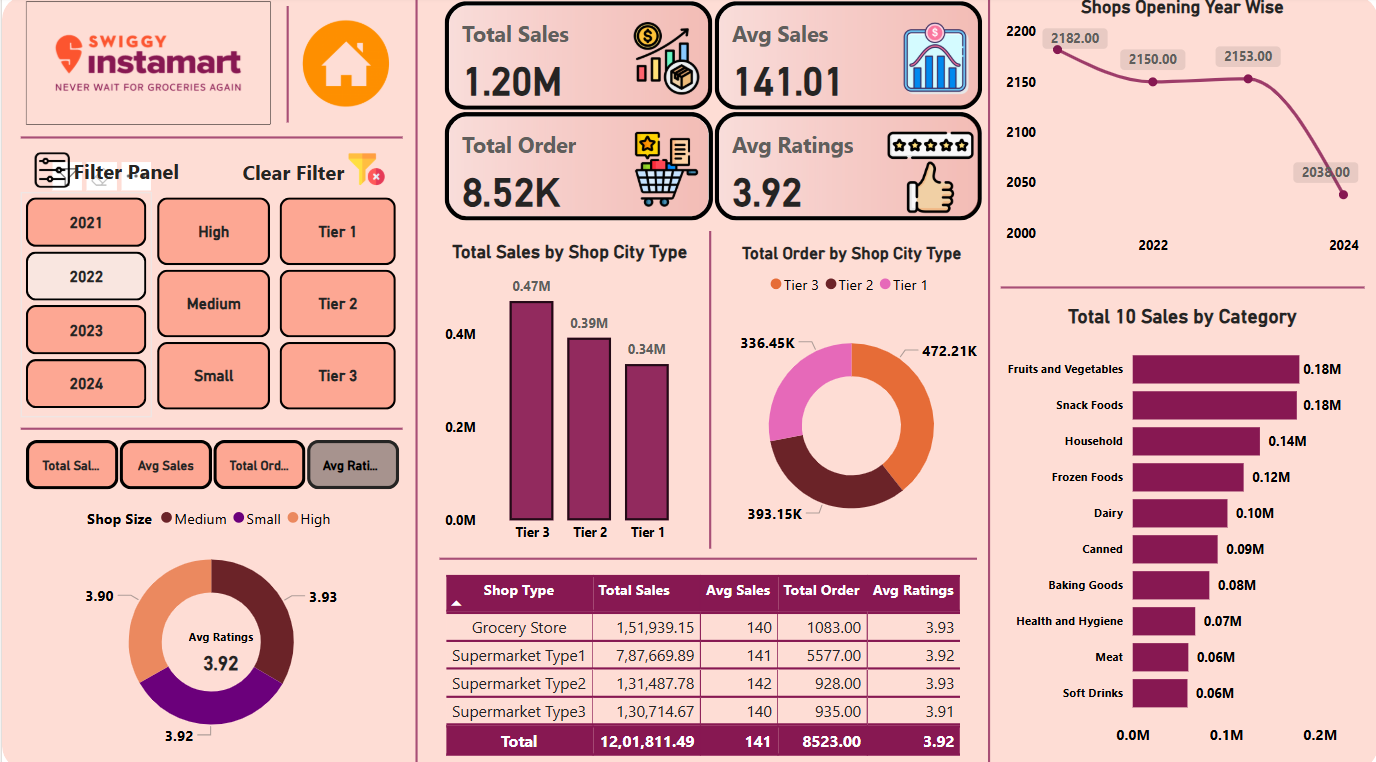

The dashboard page shown, as its layout file describes it:
{"tool":"powerbi","page":{"name":"Page 1","canvas":[1280,720],"ordinal":0},"visuals":[{"type":"shape","box":[0,0,1280.3,719.7],"z":0},{"type":"image","box":[16.9,0,238,125.4],"z":1000},{"type":"cardVisual","fields":{"Data":["Grocery Shop.Total Sales","Grocery Shop.Avg Sales","Grocery Shop.Total Order","Grocery Shop.Avg Ratings"]},"box":[407,0,511.3,215.5],"z":2000},{"type":"advancedSlicerVisual","fields":{"Values":["Matric.Matric"]},"box":[16.9,408.5,357.7,56.3],"z":3000},{"type":"donutChart","fields":{"Y":["Grocery Shop.Avg Ratings"],"Category":["Grocery Shop.Shop Size"]},"box":[16.9,464.8,354.9,242.3],"z":4000},{"type":"cardVisual","fields":{"Data":["Grocery Shop.Avg Ratings"]},"box":[154.9,571.8,98.6,66.2],"z":5000},{"type":"clusteredColumnChart","fields":{"Category":["Grocery Shop.Shop City Type"],"Y":["Grocery Shop.Total Sales"]},"box":[407,228.2,242.3,290.1],"z":6000},{"type":"donutChart","title":"Total Order by Shop City Type","fields":{"Category":["Grocery Shop.Shop City Type"],"Y":["Grocery Shop.Total Sales"]},"box":[662.8,230.5,255.2,292.3],"z":7000},{"type":"tableEx","fields":{"Values":["Grocery Shop.Shop Type","Grocery Shop.Total Sales","Grocery Shop.Avg Sales","Grocery Shop.Total Order","Grocery Shop.Avg Ratings"]},"box":[407,533.8,511.3,185.9],"z":8000},{"type":"lineChart","title":"Shops Opening Year Wise","fields":{"Category":["Grocery Shop.Shop Opening Year"],"Y":["Grocery Shop.Total Order"]},"box":[929.6,0,338,250.7],"z":9000},{"type":"clusteredBarChart","fields":{"Category":["Grocery Shop.Category"],"Y":["Grocery Shop.Total Sales"]},"box":[929.6,287.3,338,419.7],"z":10000},{"type":"advancedSlicerVisual","fields":{"Values":["Grocery Shop.Shop Opening Year"]},"box":[16.9,183.1,122.5,208.5],"z":11000},{"type":"advancedSlicerVisual","fields":{"Values":["Grocery Shop.Shop Size"]},"box":[139.4,183.1,115.5,208.5],"z":12000},{"type":"advancedSlicerVisual","fields":{"Values":["Grocery Shop.Shop City Type"]},"box":[253.5,183.1,118.3,208.5],"z":13000},{"type":"textbox","box":[62,145.1,132.4,38],"z":14000},{"type":"image","box":[15.5,140.8,63.4,42.3],"z":15000},{"type":"textbox","box":[218.3,146.5,119.7,36.6],"z":16000},{"type":"image","box":[312.7,139.4,52.1,43.7],"z":17000},{"type":"image","box":[264.8,0,109.9,125.4],"z":18000},{"type":"shape","box":[16.9,100,354.9,63.4],"z":19000},{"type":"shape","box":[16.9,370.4,354.9,63.4],"z":20000},{"type":"shape","box":[374.6,0,22.5,719.7],"z":21000},{"type":"shape","box":[907,0,22.5,719.7],"z":22000},{"type":"shape","box":[638,218.3,40.8,295.8],"z":23000},{"type":"shape","box":[929.6,239.4,338,63.4],"z":24000},{"type":"shape","box":[407,491.5,500,63.4],"z":25000},{"type":"shape","box":[245.1,9.9,40.8,108.5],"z":26000}]}

Visuals, with their boxes in screenshot pixels (x1, y1, x2, y2), scaled from the page's 1280x720 canvas onto the 1376x762 screenshot:
shape: box=[0, 0, 1375, 761]
image: box=[18, 0, 274, 133]
cardVisual - Grocery Shop.Total Sales x Grocery Shop.Avg Sales: box=[438, 0, 987, 228]
advancedSlicerVisual - Matric.Matric: box=[18, 432, 403, 492]
donutChart - Grocery Shop.Avg Ratings x Grocery Shop.Shop Size: box=[18, 492, 400, 748]
cardVisual - Grocery Shop.Avg Ratings: box=[167, 605, 273, 675]
clusteredColumnChart - Grocery Shop.Shop City Type x Grocery Shop.Total Sales: box=[438, 242, 698, 549]
"Total Order by Shop City Type" donutChart: box=[713, 244, 987, 553]
tableEx - Grocery Shop.Shop Type x Grocery Shop.Total Sales: box=[438, 565, 987, 761]
"Shops Opening Year Wise" lineChart: box=[999, 0, 1363, 265]
clusteredBarChart - Grocery Shop.Category x Grocery Shop.Total Sales: box=[999, 304, 1363, 748]
advancedSlicerVisual - Grocery Shop.Shop Opening Year: box=[18, 194, 150, 414]
advancedSlicerVisual - Grocery Shop.Shop Size: box=[150, 194, 274, 414]
advancedSlicerVisual - Grocery Shop.Shop City Type: box=[273, 194, 400, 414]
textbox: box=[67, 154, 209, 194]
image: box=[17, 149, 85, 194]
textbox: box=[235, 155, 363, 194]
image: box=[336, 148, 392, 194]
image: box=[285, 0, 403, 133]
shape: box=[18, 106, 400, 173]
shape: box=[18, 392, 400, 459]
shape: box=[403, 0, 427, 761]
shape: box=[975, 0, 999, 761]
shape: box=[686, 231, 730, 544]
shape: box=[999, 253, 1363, 320]
shape: box=[438, 520, 975, 587]
shape: box=[263, 10, 307, 125]
